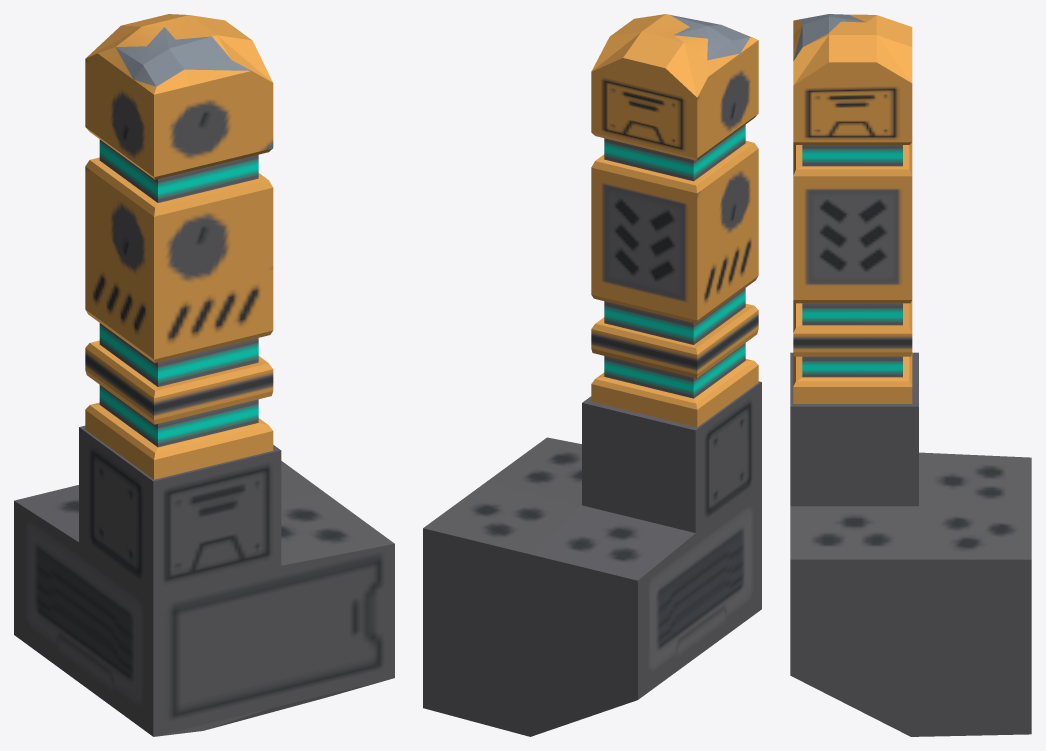
File: SM_Bld_Railing_Pillar_Corner_Outer_01.fbx
The picture shows the model from 3 angles, left to right: view 1: azimuth 30°, elevation 25°; view 2: azimuth 150°, elevation 25°; view 3: azimuth 270°, elevation 25°; orthographic projection. The views are drawn at different scales.
Parts seen in each view (by area): view 1: SM_Bld_Railing_Pillar_Corner_Outer_01; view 2: SM_Bld_Railing_Pillar_Corner_Outer_01; view 3: SM_Bld_Railing_Pillar_Corner_Outer_01.
Part boxes in pixels (bbox=[...]): SM_Bld_Railing_Pillar_Corner_Outer_01: bbox=[14, 14, 394, 736]; SM_Bld_Railing_Pillar_Corner_Outer_01: bbox=[423, 14, 761, 736]; SM_Bld_Railing_Pillar_Corner_Outer_01: bbox=[790, 14, 1031, 736].
Size of the model in its own units: 54.25 by 158 by 54.25.
